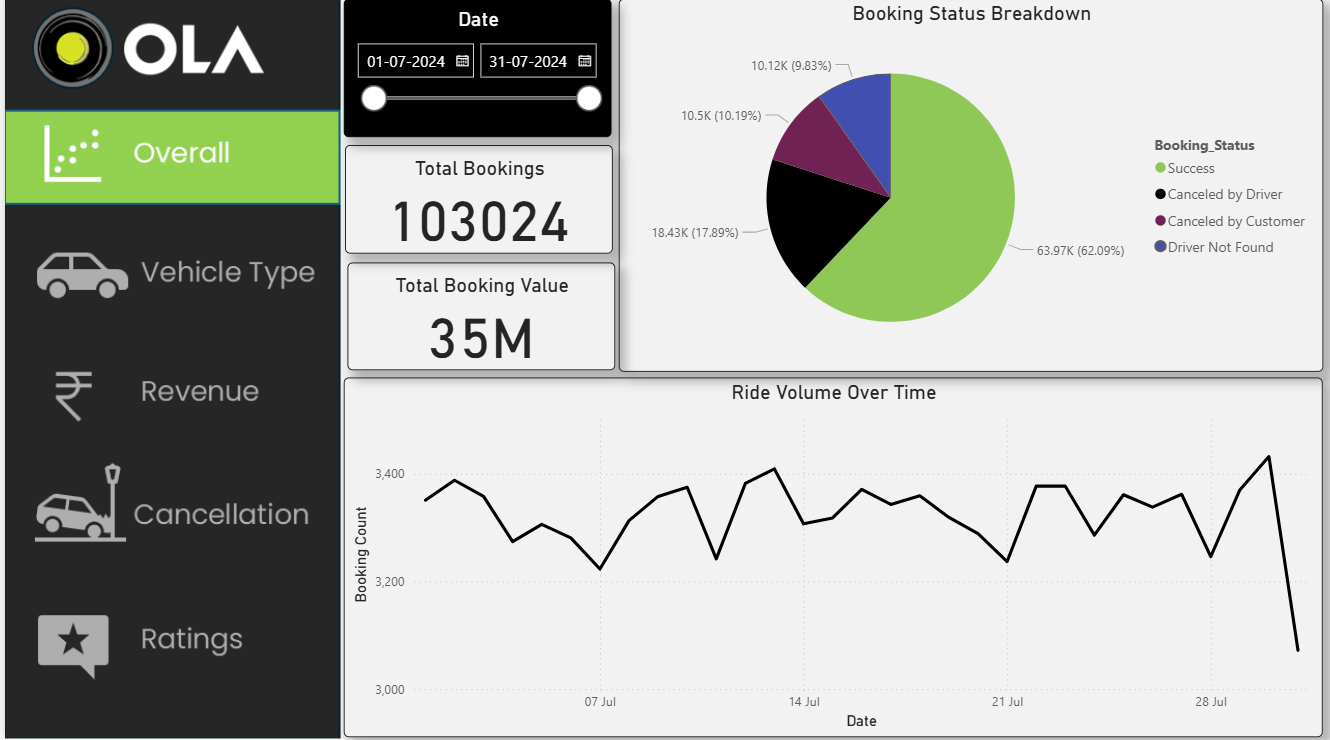

The dashboard page shown, as its layout file describes it:
{"tool":"powerbi","page":{"name":"Overall","canvas":[1280,720],"ordinal":0},"visuals":[{"type":"actionButton","box":[0,217.2,323.3,101.3],"z":0},{"type":"actionButton","box":[0,334.2,323.3,100.1],"z":1000},{"type":"actionButton","box":[0,445.2,323.3,100.1],"z":2000},{"type":"actionButton","box":[0,568.2,323.3,100.1],"z":3000},{"type":"lineChart","title":"Ride Volume Over Time","fields":{"Category":["OLA Datasets.Date"],"Y":["CountNonNull(OLA Datasets.Booking_ID)"]},"box":[327.5,368.8,945,347.5],"z":4000},{"type":"pieChart","title":"Booking Status Breakdown","fields":{"Category":["OLA Datasets.Booking_Status"],"Y":["CountNonNull(OLA Datasets.Booking_Status)"]},"box":[592.5,3.8,680,360],"z":5000},{"type":"slicer","title":"Date","fields":{"Values":["OLA Datasets.Date"]},"box":[327.5,3.8,258.8,133.8],"z":6000},{"type":"card","title":"Total Bookings","fields":{"Values":["CountNonNull(OLA Datasets.Booking_ID)"]},"box":[328.8,145,258.8,105],"z":7000},{"type":"card","title":"Total Booking Value","fields":{"Values":["Sum(OLA Datasets.Booking_Value)"]},"box":[330,258.8,258.8,103.8],"z":8000}]}

Visuals, with their boxes in screenshot pixels (x1, y1, x2, y2), scaled from the page's 1280x720 canvas onto the 1330x740 screenshot:
actionButton: box(0, 223, 336, 327)
actionButton: box(0, 343, 336, 446)
actionButton: box(0, 458, 336, 560)
actionButton: box(0, 584, 336, 687)
"Ride Volume Over Time" lineChart: box(340, 379, 1322, 736)
"Booking Status Breakdown" pieChart: box(616, 4, 1322, 374)
"Date" slicer: box(340, 4, 609, 141)
"Total Bookings" card: box(342, 149, 611, 257)
"Total Booking Value" card: box(343, 266, 612, 373)
